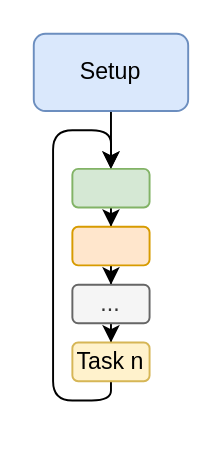
Image size: 222x450. Some labels were removed from this diagram. The centre of each missing label's shape, as x and y in pixels:
Task 1: the point at 110,187
Task 2: the point at 110,245
